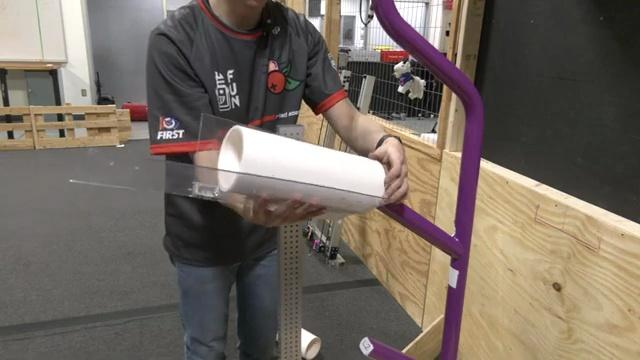CORAL: (214, 123, 389, 215)
